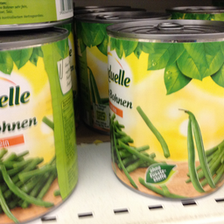beans: (104, 19, 224, 198), (1, 28, 79, 222)
